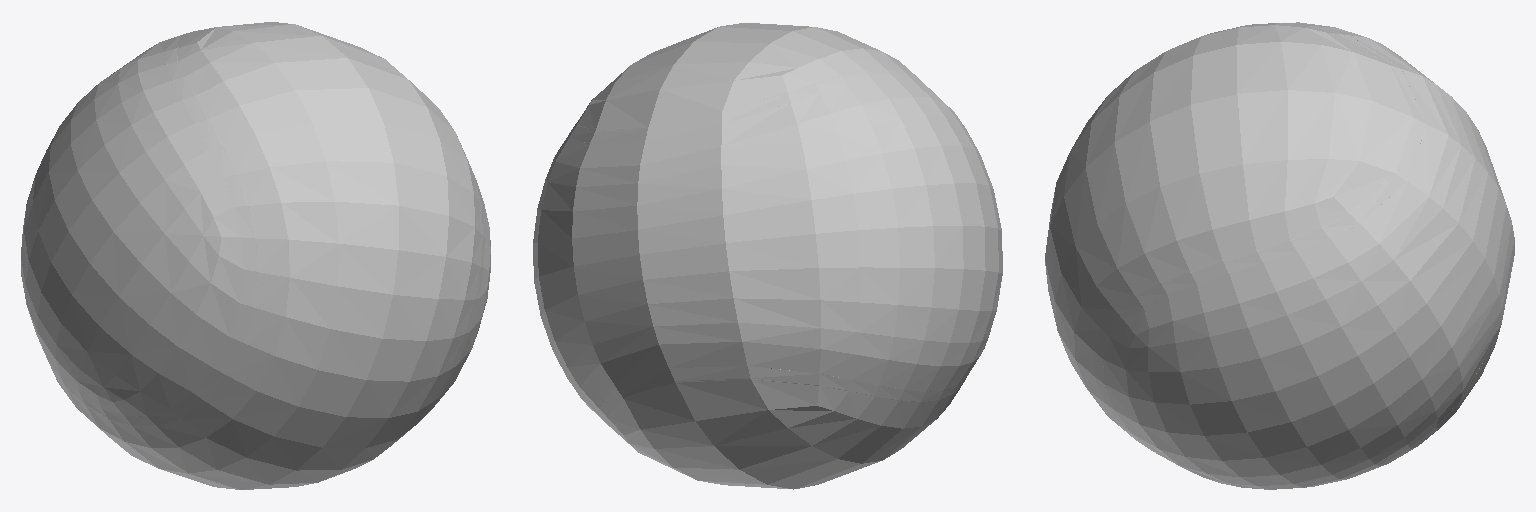
The model's file is ball1.obj.
The picture shows the model from 3 angles: view 1: azimuth 30°, elevation 25°; view 2: azimuth 150°, elevation 25°; view 3: azimuth 270°, elevation 25°; orthographic projection.
Visible parts, largest first — view 1: tennis Ball; view 2: tennis Ball; view 3: tennis Ball.
Part boxes in pixels (left/top/right/bottom): tennis Ball: left=21, top=22, right=490, bottom=489; tennis Ball: left=533, top=23, right=1002, bottom=489; tennis Ball: left=1045, top=22, right=1514, bottom=489.
Bounding box in the file's own units: 0.8405 × 0.8435 × 0.8429.